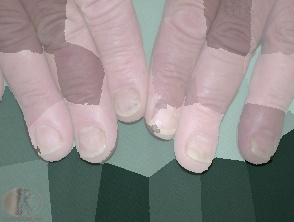Nail_psoriasis: (144, 99, 186, 142), (74, 121, 113, 164), (178, 132, 220, 169), (111, 83, 146, 121), (248, 130, 272, 162), (34, 138, 66, 159)
